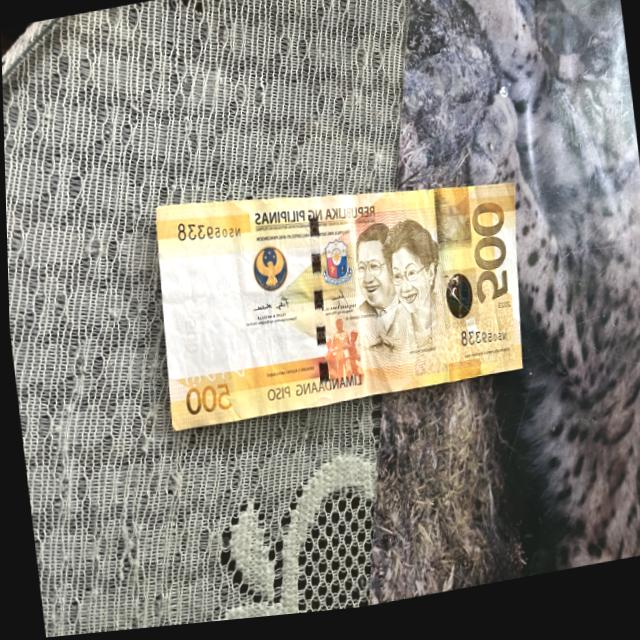concealed_value: (429, 192, 472, 262)
optically_variable_device: (440, 277, 473, 332)
security_thread: (305, 201, 328, 410)
see_through_mark: (179, 361, 250, 392)
serial_number: (172, 213, 243, 254), (452, 321, 513, 361)
value: (464, 206, 512, 314)
value_watermark: (180, 320, 198, 358)
